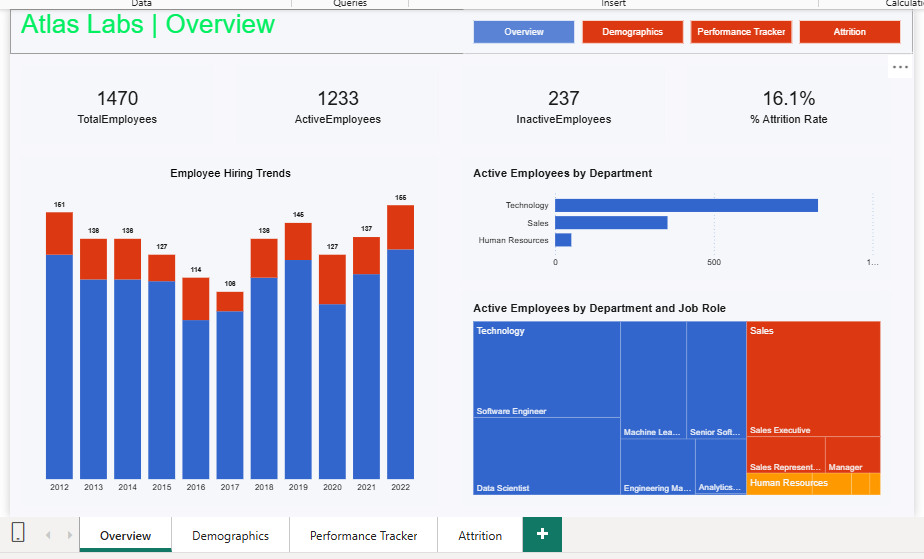

The page's visual inventory and layout, read from the dashboard file:
{"tool":"powerbi","page":{"name":"Overview","canvas":[1280,720],"ordinal":0},"visuals":[{"type":"card","fields":{"Values":["_Measures.TotalEmployees"]},"box":[16,80,272,112],"z":0},{"type":"card","fields":{"Values":["_Measures.ActiveEmployees"]},"box":[320,80,288,112],"z":1000},{"type":"card","fields":{"Values":["_Measures.InactiveEmployees"]},"box":[640,80,288,112],"z":2000},{"type":"card","fields":{"Values":["_Measures.% Attrition Rate"]},"box":[960,80,288,112],"z":3000},{"type":"columnChart","title":"Employee Hiring Trends","fields":{"Category":["DimDate.Date.Variation.Date Hierarchy.Year","DimDate.Date.Variation.Date Hierarchy.Quarter","DimDate.Date.Variation.Date Hierarchy.Month","DimDate.Date.Variation.Date Hierarchy.Day"],"Y":["_Measures.TotalEmployeesDate"],"Series":["DimEmployee.Attrition"]},"box":[16,208,592,496],"z":4000},{"type":"clusteredBarChart","title":"Active Employees by Department","fields":{"Category":["DimEmployee.Department"],"Y":["_Measures.ActiveEmployees"]},"box":[640,208,608,176],"z":5000},{"type":"treemap","title":"Active Employees by Department and Job Role","fields":{"Values":["_Measures.ActiveEmployees"],"Group":["DimEmployee.Department"],"Details":["DimEmployee.JobRole"]},"box":[640,400,608,304],"z":6000},{"type":"shape","box":[0,0,1280,64],"z":7000},{"type":"textbox","box":[16,0,448,64],"z":8000},{"type":"pageNavigator","box":[640,0,640,64],"z":9000}]}

Visuals, with their boxes on the page's 1280x720 design canvas (x1, y1, x2, y2). These are canvas units, not pixel positions in the 924x559 screenshot, which may show the page scaled, cropped or inside an application window:
card - _Measures.TotalEmployees: 16/80/288/192
card - _Measures.ActiveEmployees: 320/80/608/192
card - _Measures.InactiveEmployees: 640/80/928/192
card - _Measures.% Attrition Rate: 960/80/1248/192
"Employee Hiring Trends" columnChart: 16/208/608/704
"Active Employees by Department" clusteredBarChart: 640/208/1248/384
"Active Employees by Department and Job Role" treemap: 640/400/1248/704
shape: 0/0/1280/64
textbox: 16/0/464/64
pageNavigator: 640/0/1280/64
